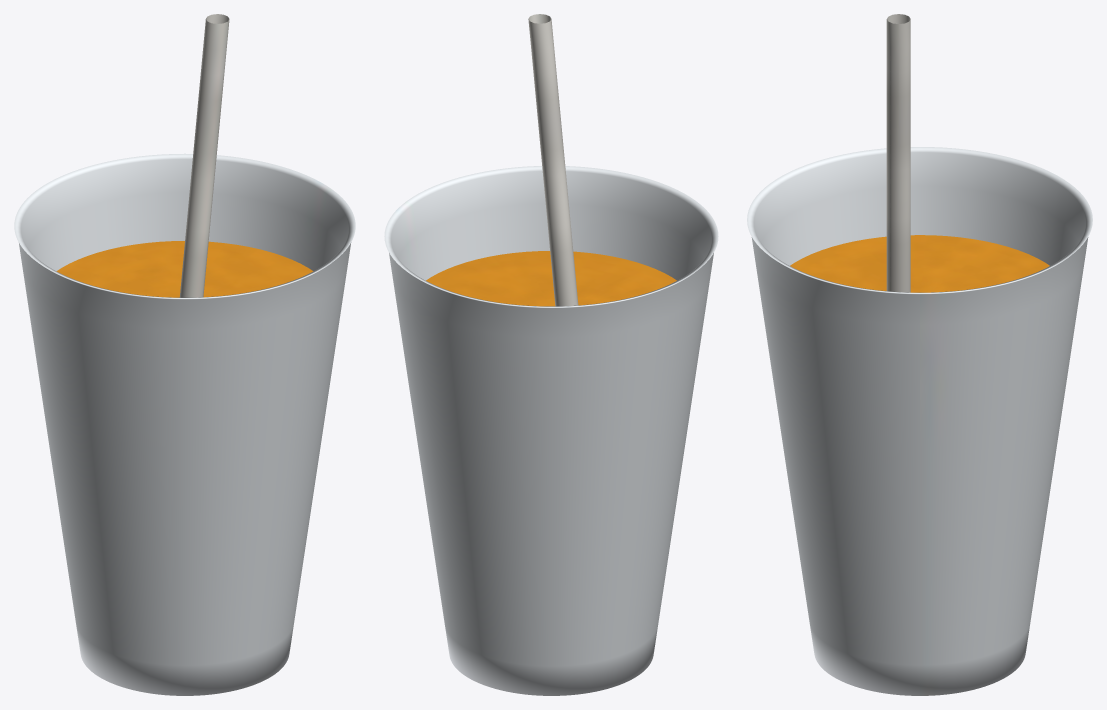
Rendered from orange-juice.glb.
3 renders of one model, left to right at view 1: azimuth 30°, elevation 25°; view 2: azimuth 150°, elevation 25°; view 3: azimuth 270°, elevation 25°, orthographic. The views are drawn at different scales.
Visible parts, largest first — view 1: clear, gloss, satin; view 2: clear, gloss, satin; view 3: clear, gloss, satin.
Boxes of the visible parts, x1=… form: clear: x1=14, y1=153, x2=355, y2=695; gloss: x1=56, y1=241, x2=313, y2=297; satin: x1=179, y1=14, x2=229, y2=297; clear: x1=384, y1=166, x2=718, y2=695; gloss: x1=426, y1=251, x2=676, y2=306; satin: x1=528, y1=14, x2=578, y2=306; clear: x1=747, y1=147, x2=1092, y2=695; gloss: x1=790, y1=235, x2=1049, y2=292; satin: x1=886, y1=14, x2=910, y2=292.
Size of the model in its own units: 0.098 by 0.201 by 0.098.
Materials: 3 (3 with a texture image).
